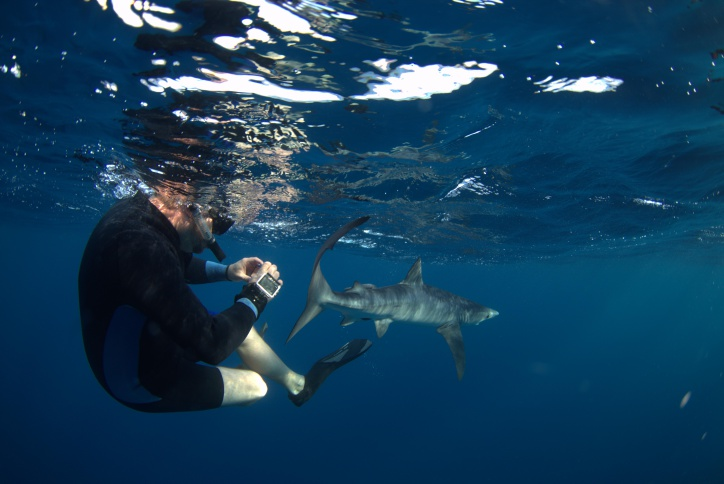Azul: (286, 190, 493, 397)
